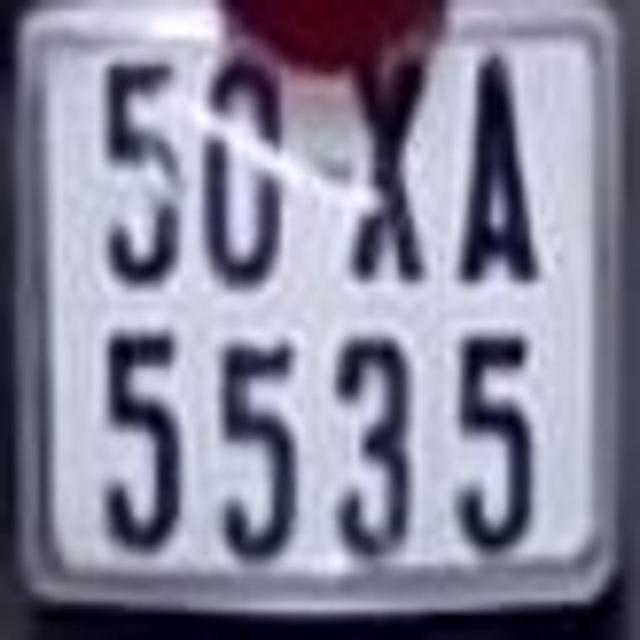0: (205, 52, 282, 284)
3: (335, 328, 412, 555)
5: (218, 327, 300, 563), (458, 328, 541, 555), (104, 326, 187, 548), (104, 59, 178, 284)
A: (465, 50, 545, 288)
X: (347, 45, 424, 282)
